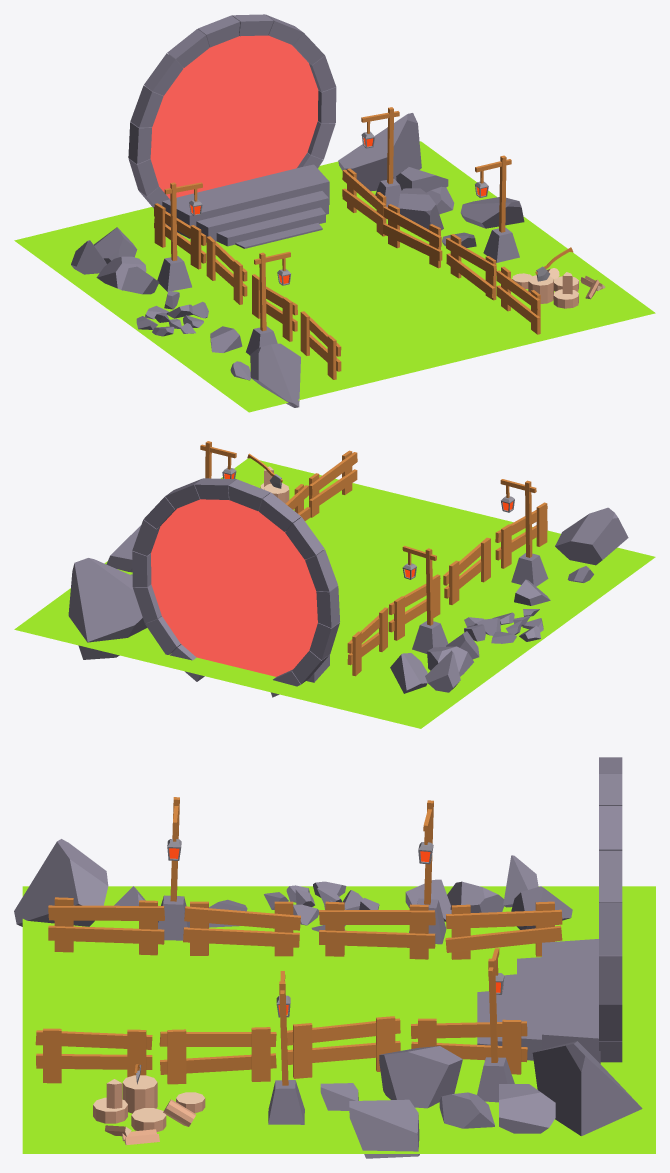
File: portal_scene.glb
3 renders of one model, top to bottom at view 1: azimuth 30°, elevation 25°; view 2: azimuth 150°, elevation 25°; view 3: azimuth 270°, elevation 25°, orthographic. The views are drawn at different scales.
Visible parts, largest first — view 1: ground, Circle, portal-stars, rock.006, rock.022, portal-stars.001, fance.005, fance.004, portal-stars.002, fance.002, fance.003, fance.001 (+25 smaller); view 2: ground, Circle, rock.006, rock.022, fance.003, fance, fance.007, fance.001, fance.002, rock.007, rock.008, portal.010 (+22 smaller); view 3: ground, portal-stars, rock.006, fance, fance.007, fance.001, fance.004, rock.022, fance.002, fance.003, fance.005, rock.005 (+25 smaller).
Boxes of the visible parts, bbox=[...] form: ground: bbox=[14, 141, 655, 412]; Circle: bbox=[150, 35, 318, 198]; portal-stars: bbox=[162, 164, 329, 238]; rock.006: bbox=[338, 113, 421, 191]; rock.022: bbox=[250, 343, 300, 407]; portal-stars.001: bbox=[196, 191, 328, 242]; fance.005: bbox=[383, 204, 442, 268]; fance.004: bbox=[446, 234, 496, 300]; portal-stars.002: bbox=[216, 207, 325, 246]; fance.002: bbox=[154, 203, 206, 269]; fance.003: bbox=[496, 266, 540, 334]; fance.001: bbox=[206, 236, 247, 304]; ground: bbox=[14, 458, 655, 728]; Circle: bbox=[151, 499, 317, 676]; rock.006: bbox=[68, 558, 147, 659]; rock.022: bbox=[555, 507, 628, 565]; fance.003: bbox=[309, 450, 357, 517]; fance: bbox=[443, 537, 490, 604]; fance.007: bbox=[495, 502, 547, 568]; fance.001: bbox=[388, 574, 440, 640]; fance.002: bbox=[347, 607, 387, 676]; rock.007: bbox=[390, 653, 427, 693]; rock.008: bbox=[425, 650, 460, 692]; portal.010: bbox=[285, 517, 324, 559]; ground: bbox=[22, 886, 655, 1153]; portal-stars: bbox=[542, 939, 600, 1063]; rock.006: bbox=[532, 1041, 642, 1136]; fance: bbox=[183, 901, 300, 956]; fance.007: bbox=[48, 897, 164, 955]; fance.001: bbox=[319, 901, 435, 959]; fance.004: bbox=[159, 1027, 276, 1084]; rock.022: bbox=[14, 839, 108, 926]; fance.002: bbox=[445, 901, 562, 959]; fance.003: bbox=[35, 1028, 152, 1083]; fance.005: bbox=[287, 1016, 400, 1078]; rock.005: bbox=[379, 1046, 462, 1108].
Size of the model in its own units: 8 by 3.9 by 8.11.
